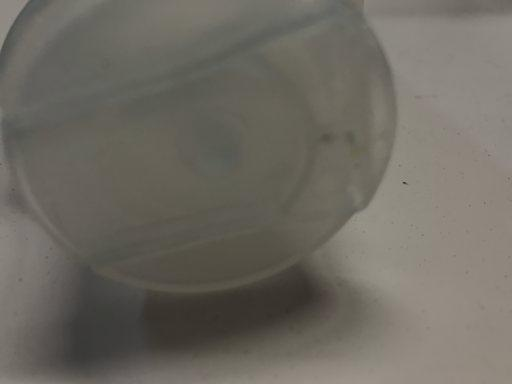plastic: (0, 2, 402, 378)
